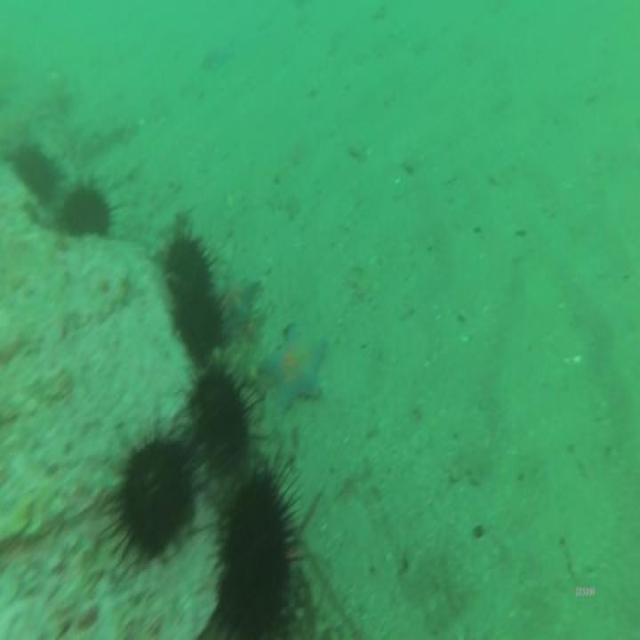echinus: (227, 476, 289, 636), (121, 444, 187, 553), (193, 375, 247, 463), (175, 291, 218, 354), (11, 141, 56, 199), (164, 237, 209, 289), (68, 188, 110, 237)
starfish: (260, 322, 324, 403), (220, 266, 258, 322)
